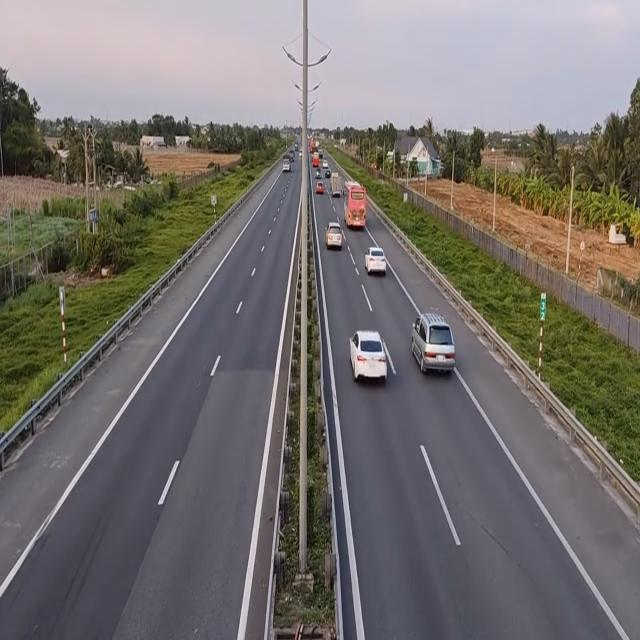bus: (343, 185, 367, 233)
car: (412, 314, 457, 380), (349, 327, 390, 387), (365, 246, 388, 278), (327, 223, 345, 251)
